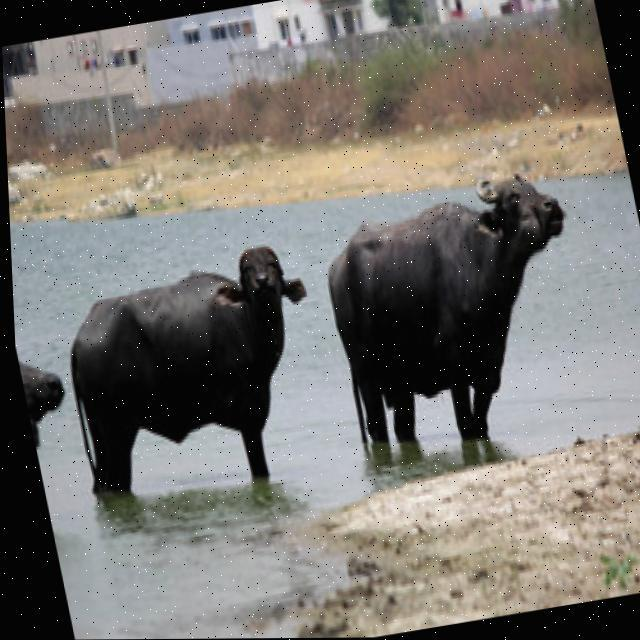Buffalo: (309, 158, 610, 463), (44, 238, 348, 508)
